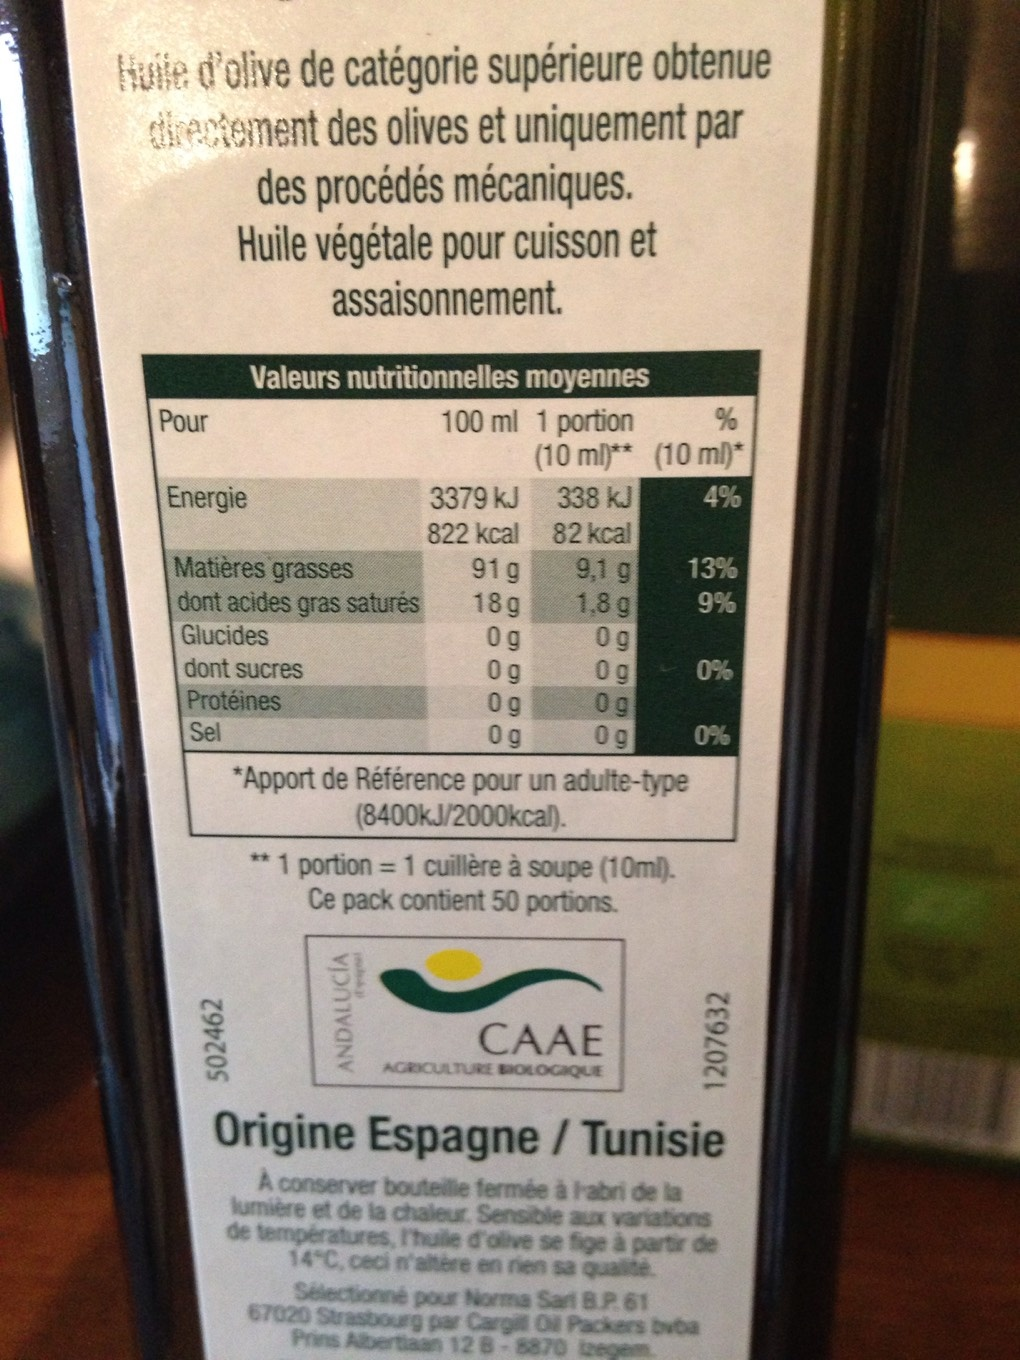column: (157, 402, 423, 747), (534, 399, 631, 751), (427, 403, 525, 750), (654, 397, 744, 747)
table: (144, 358, 765, 760)
